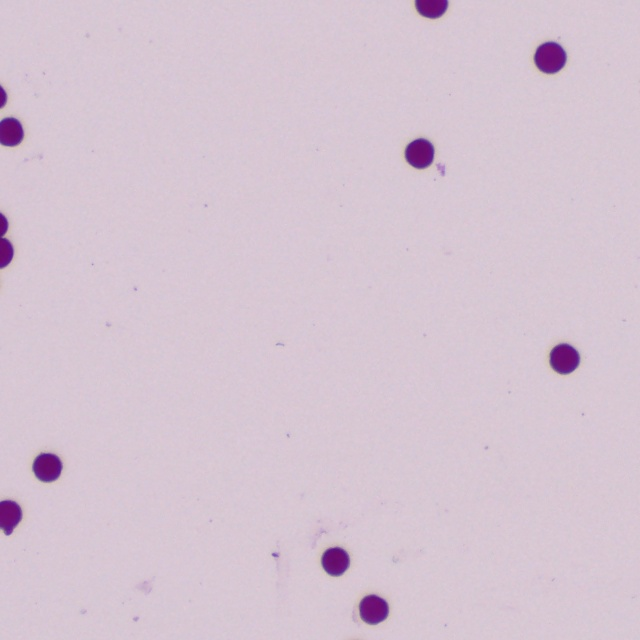viable: (1, 86, 22, 266), (535, 42, 566, 73), (551, 344, 579, 374), (360, 595, 388, 624), (406, 139, 433, 168), (34, 454, 62, 481), (323, 548, 349, 575), (1, 501, 21, 535), (1, 213, 13, 267), (1, 119, 23, 145), (416, 1, 447, 18)
